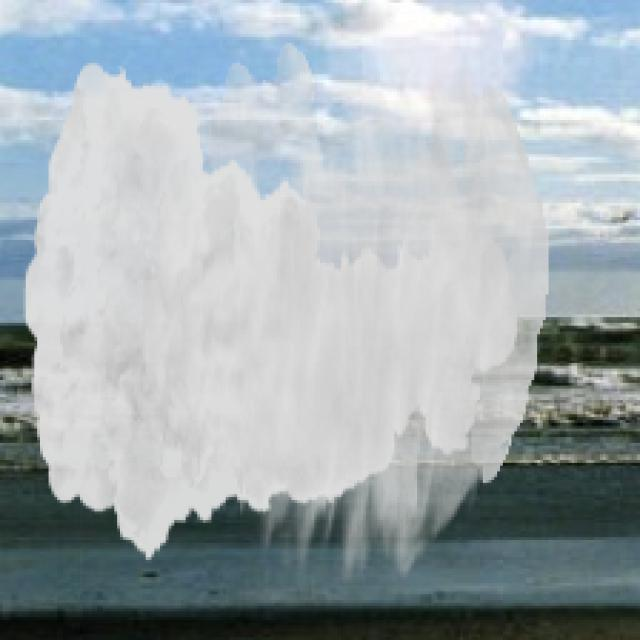Smoke: (22, 43, 548, 583)
